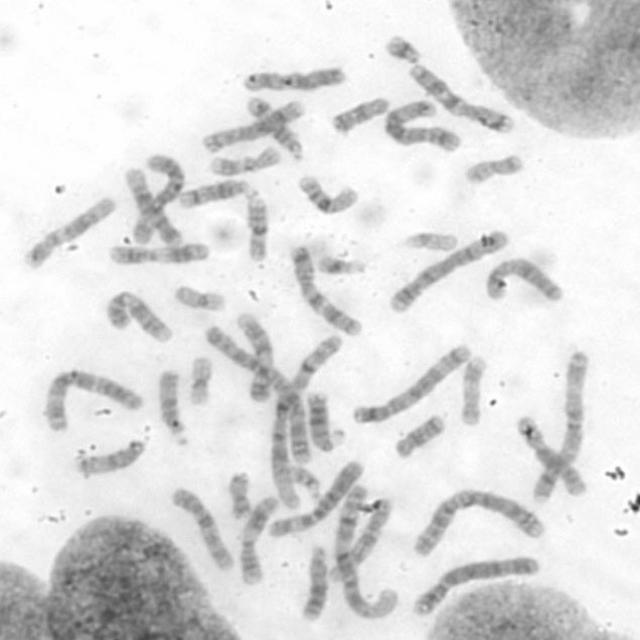A1: (267, 330, 344, 515), (330, 484, 402, 620)
A2: (200, 316, 314, 466), (406, 483, 546, 558)
A3: (527, 346, 592, 504), (38, 365, 145, 433)
B4: (384, 224, 510, 314), (406, 551, 542, 619)
B5: (349, 340, 475, 426), (380, 95, 463, 154)
C10: (167, 482, 236, 574), (325, 494, 394, 584)
C11: (234, 492, 280, 587), (104, 238, 211, 266)
C12: (18, 191, 118, 271), (120, 163, 184, 248)
C6: (263, 456, 367, 540), (129, 152, 185, 246)
C7: (405, 60, 515, 136), (286, 241, 363, 337)
C8: (513, 412, 589, 498), (197, 96, 307, 154)
C9: (102, 286, 175, 346), (231, 308, 276, 403)
D13: (296, 541, 330, 622), (303, 388, 346, 452)
D14: (242, 93, 306, 162), (174, 175, 255, 210)
D15: (71, 435, 148, 478), (154, 365, 190, 447)
E16: (293, 169, 362, 216), (240, 188, 272, 263)
E17: (205, 142, 282, 177), (455, 352, 489, 428)
E18: (389, 410, 447, 460), (327, 94, 390, 136)
F19: (170, 281, 227, 313), (183, 353, 216, 408)
F20: (460, 150, 525, 186), (224, 467, 252, 520)
G21: (380, 30, 424, 65), (315, 252, 368, 279)
G22: (402, 229, 462, 255), (286, 462, 322, 500)
X: (480, 254, 565, 306), (238, 62, 347, 94)
